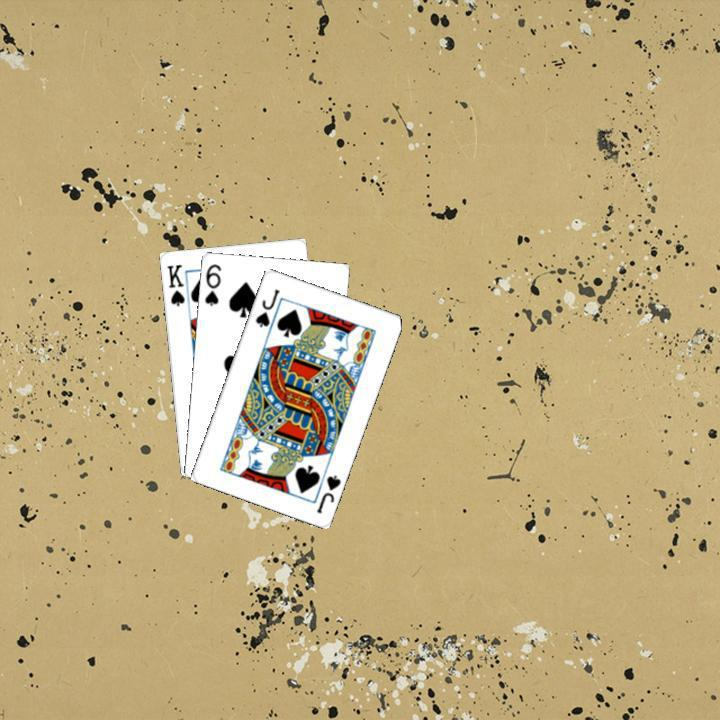6: (200, 259, 223, 308)
J: (312, 470, 343, 515), (251, 284, 281, 329)
K: (162, 259, 186, 308)
